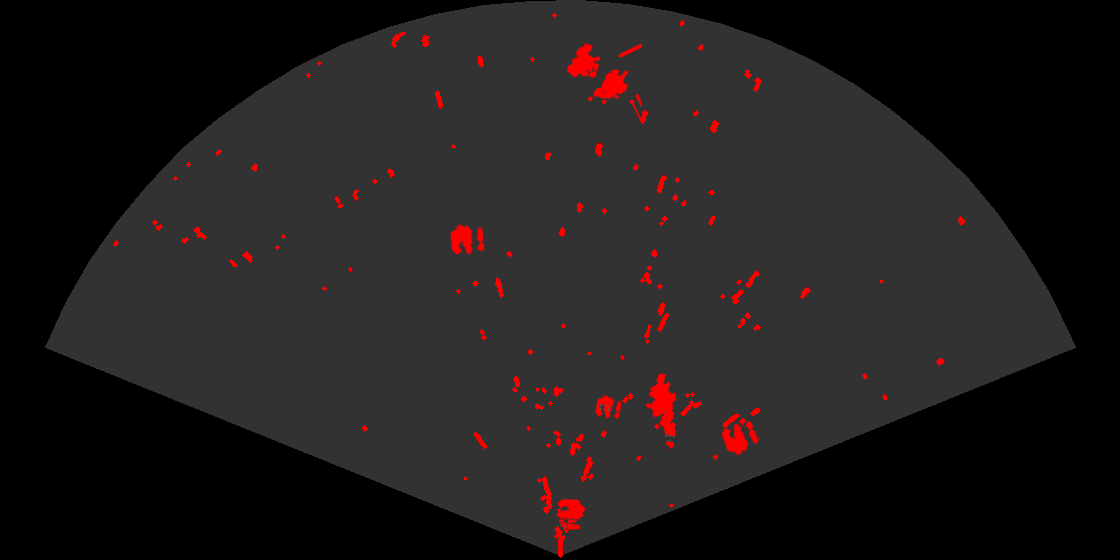ball: (720, 419, 760, 457), (449, 223, 486, 257), (555, 498, 587, 531), (594, 394, 623, 421)
cage: (565, 41, 642, 125)
frogman: (644, 374, 678, 450)
